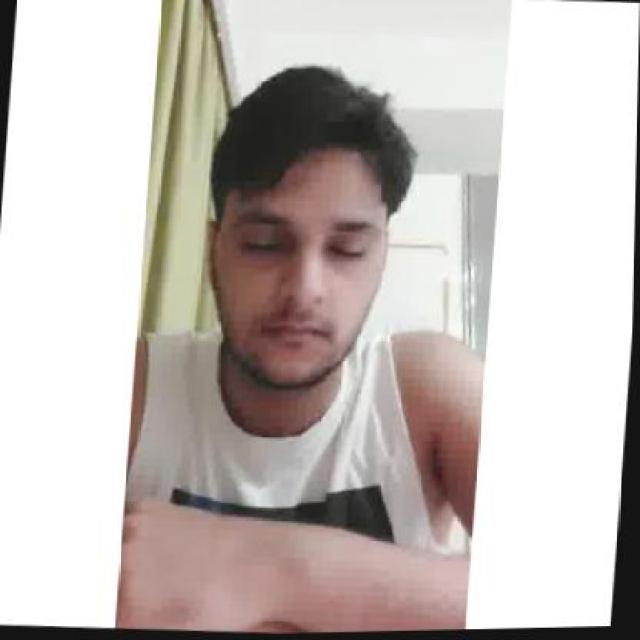inattentif: (190, 56, 404, 402)
